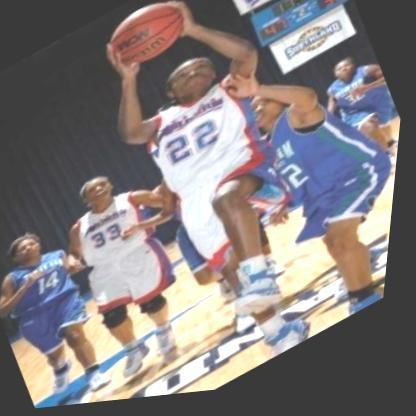basketball: (93, 0, 200, 86)
